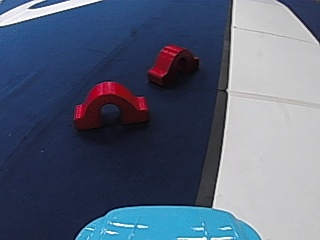bridge: (68, 77, 151, 128), (146, 41, 199, 88)
